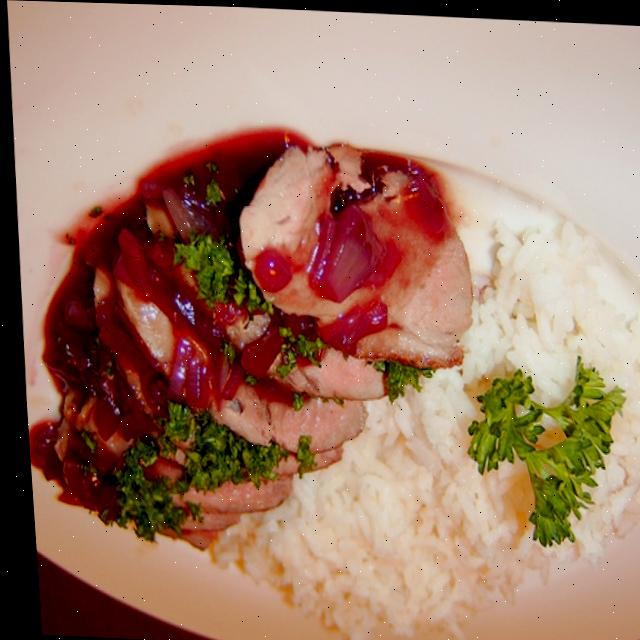米饭主食: (20, 128, 640, 634)
